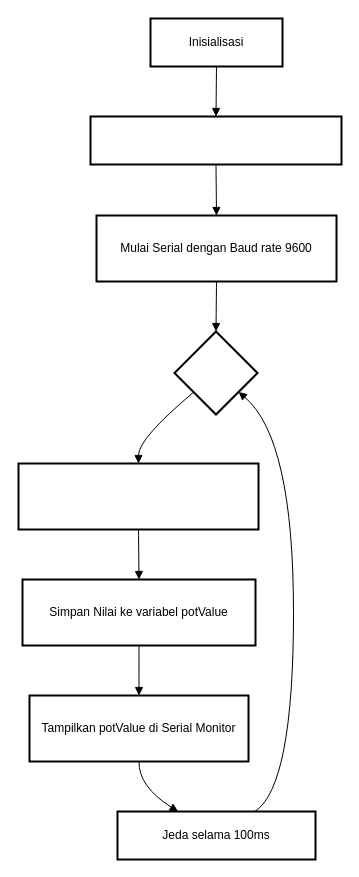
This 359x877 diagram has some shape labels left out. Here are the shapes that lost their labels. From the top down, the box of each, then its label:
(89, 115, 342, 165): Pin Potensiometer pada A0
(173, 330, 258, 415): Loop
(17, 462, 259, 530): Baca Nilai Potensiometer dari A0
